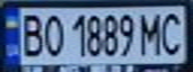1: (66, 11, 87, 57)
8: (84, 11, 106, 57), (103, 11, 121, 57)
9: (118, 10, 139, 56)
B: (15, 10, 45, 57)
C: (157, 9, 187, 56)
M: (136, 9, 166, 56)
O: (39, 10, 66, 58)
